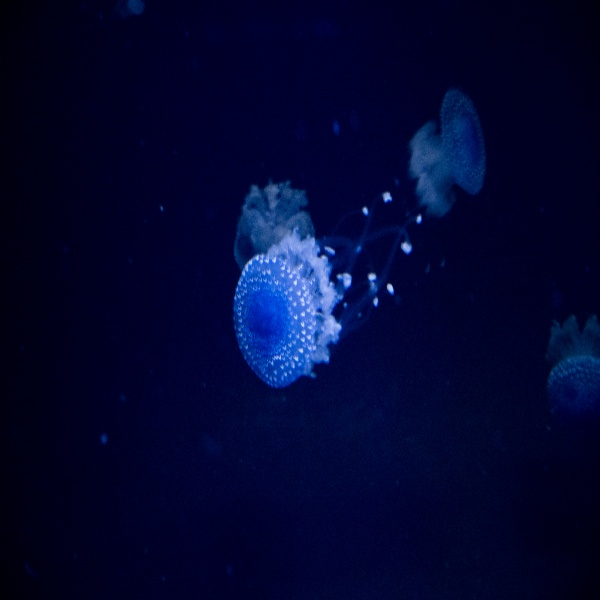Jellyfish: (232, 182, 421, 390), (403, 91, 488, 216), (541, 319, 599, 423)
